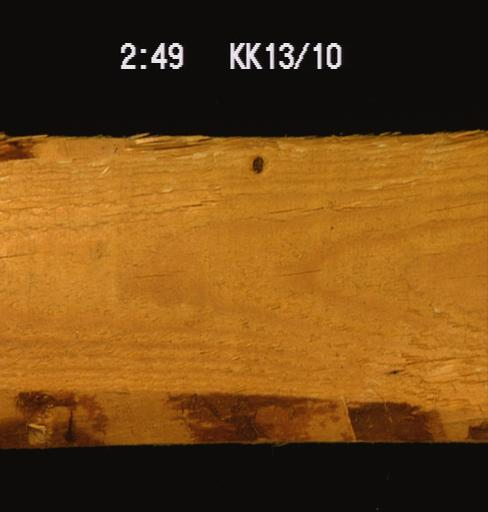sound_knot: (249, 154, 266, 174)
split: (0, 202, 60, 263), (258, 201, 379, 225), (394, 342, 487, 372), (122, 258, 189, 283), (415, 196, 486, 215), (270, 263, 334, 282)
wave: (0, 382, 486, 446), (0, 130, 482, 167)
